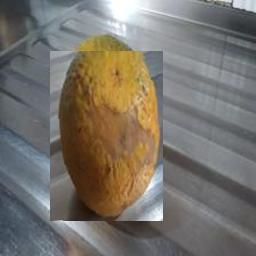Orange Semifresh: (50, 52, 163, 222)
